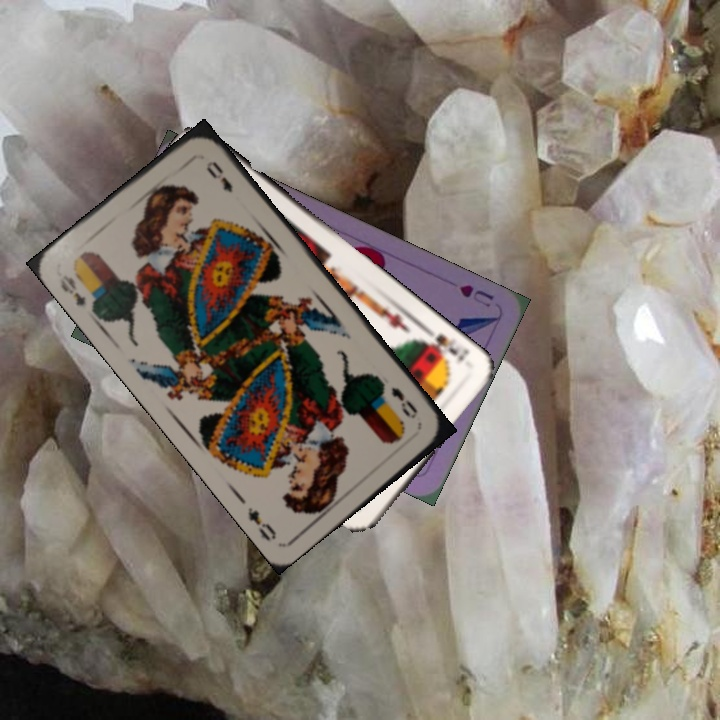EO: (387, 382, 421, 422), (55, 271, 89, 309)
HU: (455, 280, 497, 310)
SK: (417, 329, 472, 365)
